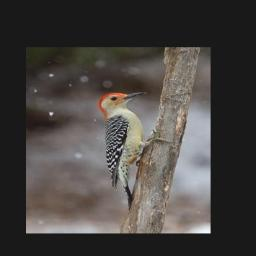Woodpecker: (99, 91, 175, 209)
